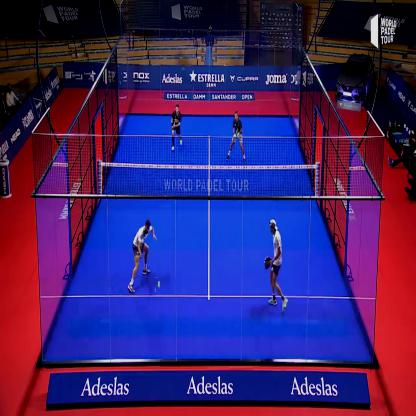ball: (155, 277, 163, 294)
